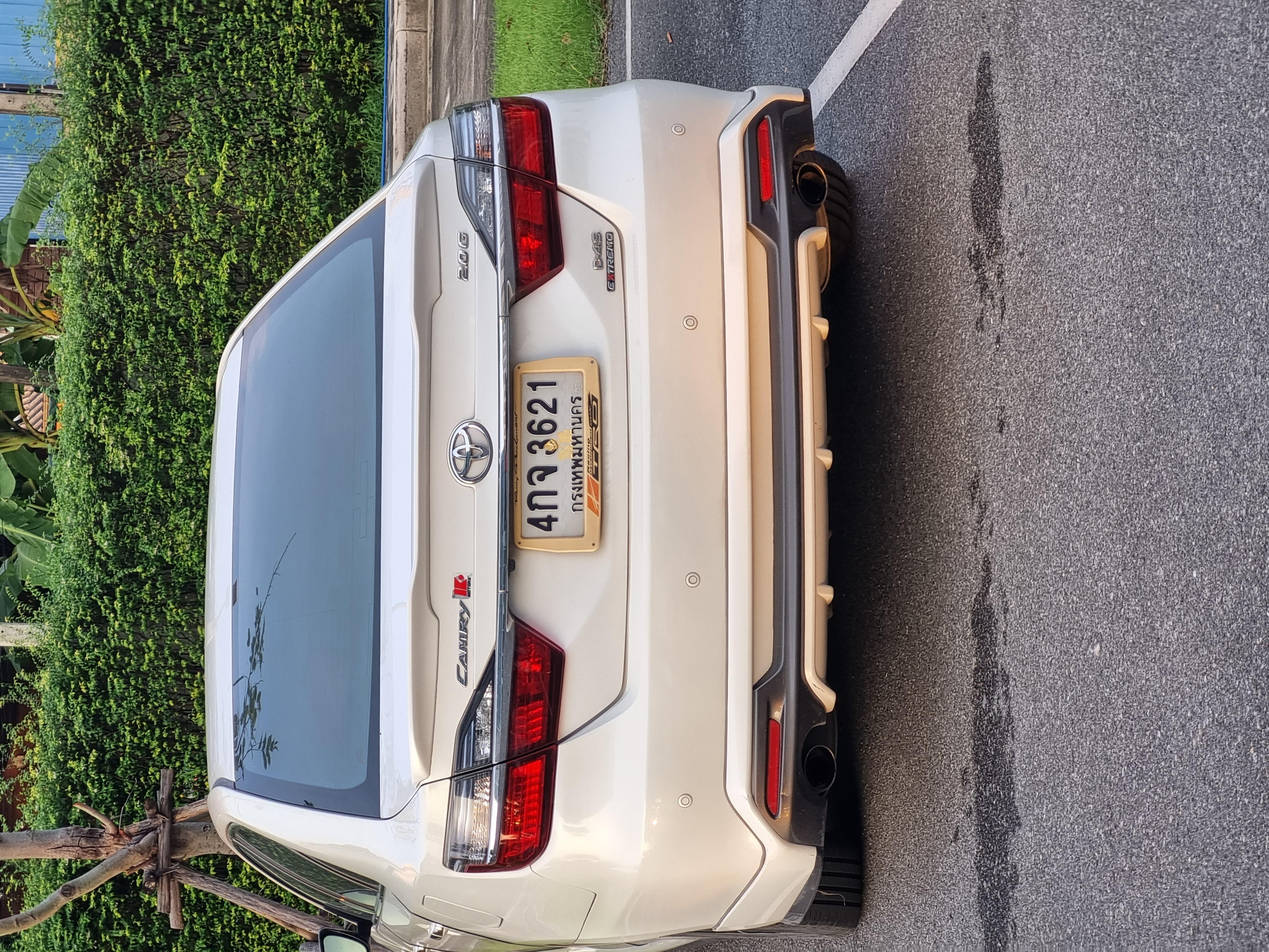license-plate: (527, 372, 801, 452)
